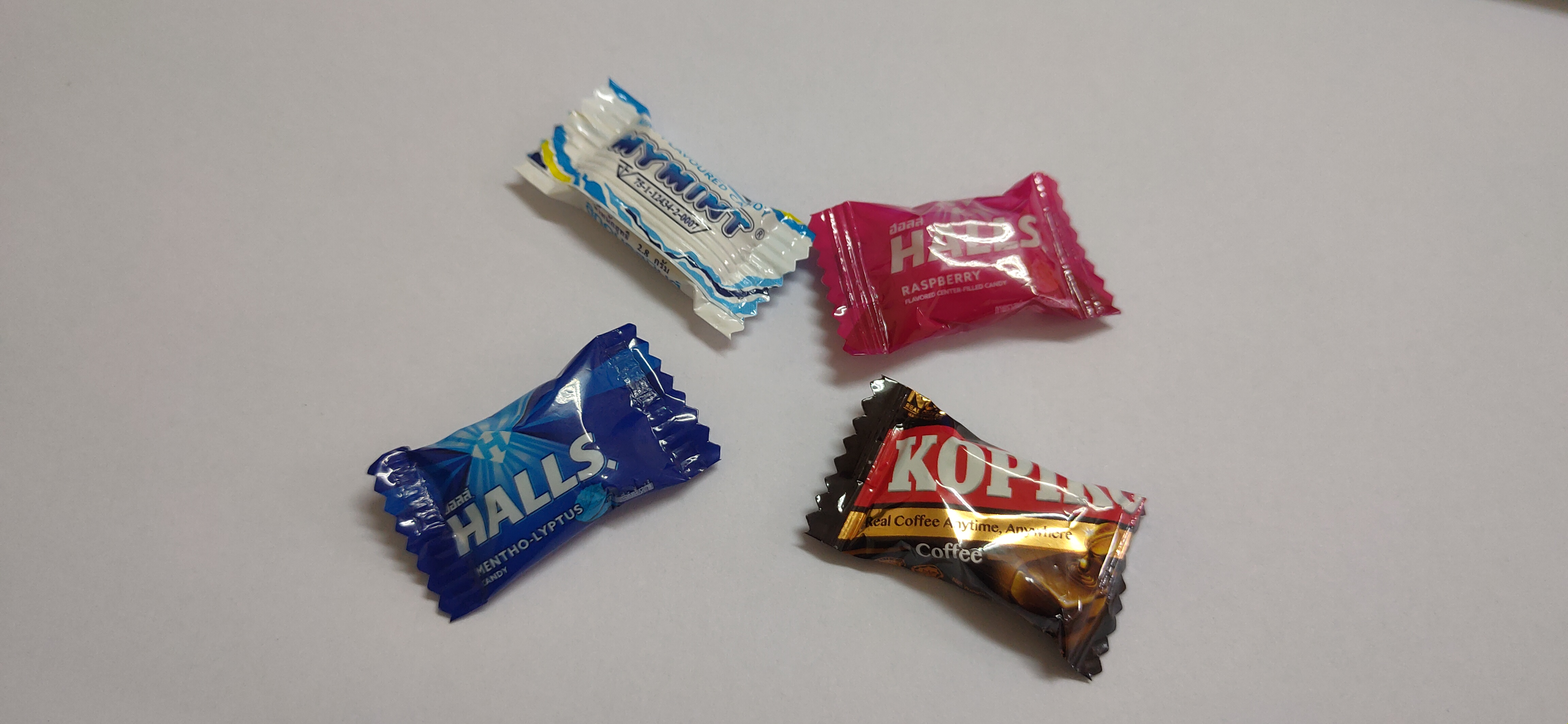plastic: (787, 350, 1209, 712), (355, 317, 741, 647), (487, 40, 834, 375), (811, 146, 1138, 377)
